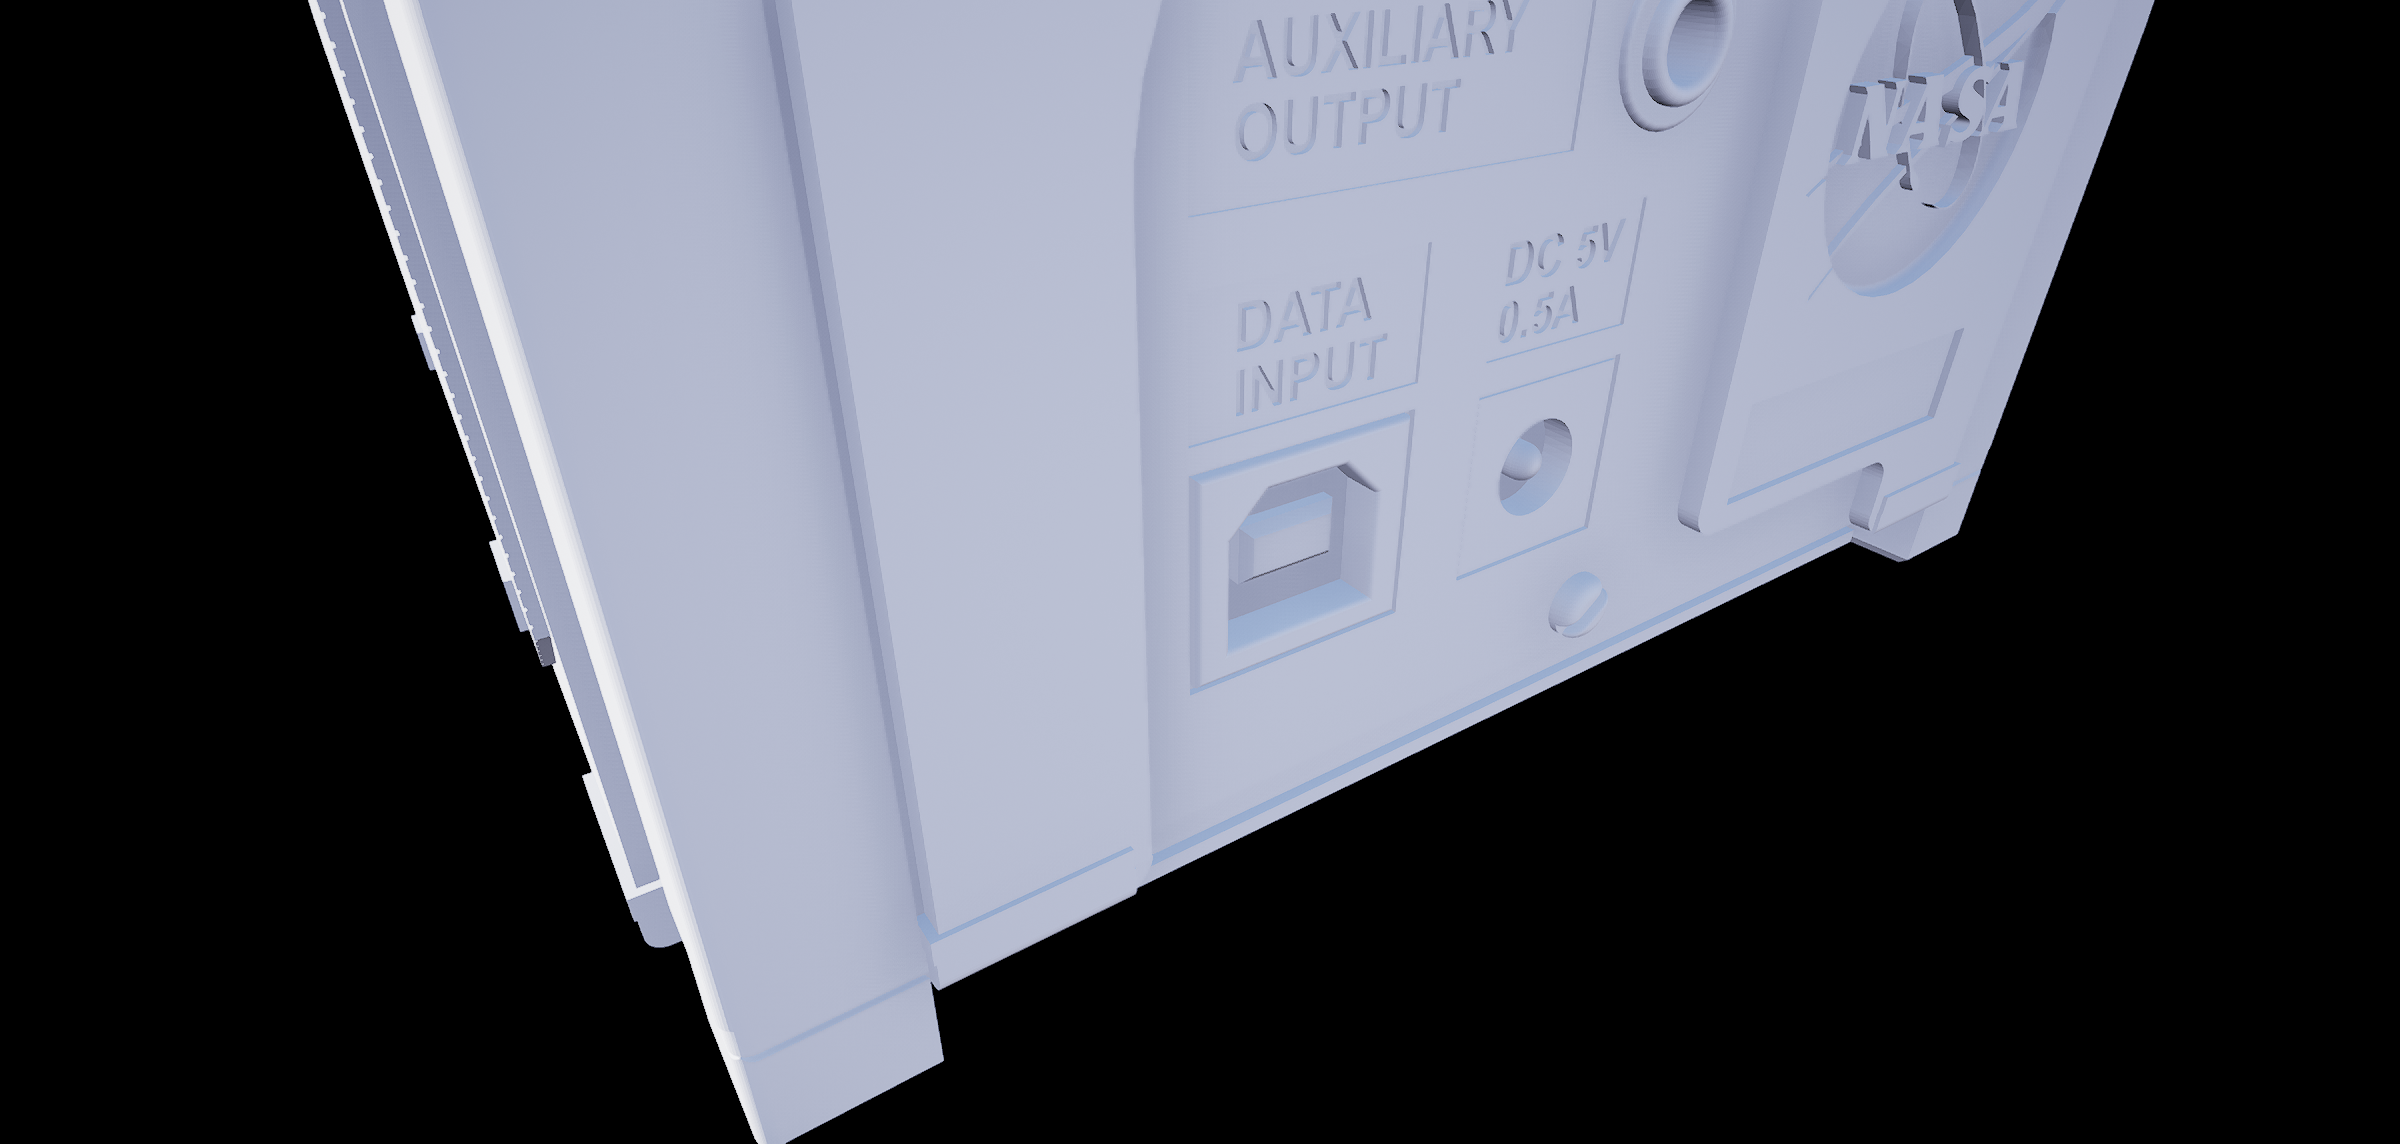aux: (1599, 2, 1749, 145)
dc: (1489, 407, 1577, 533)
usb: (1212, 452, 1391, 652)
